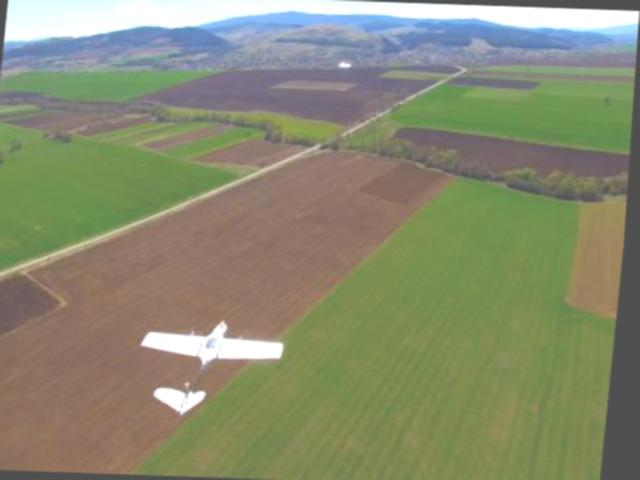uav: (132, 308, 298, 428)
